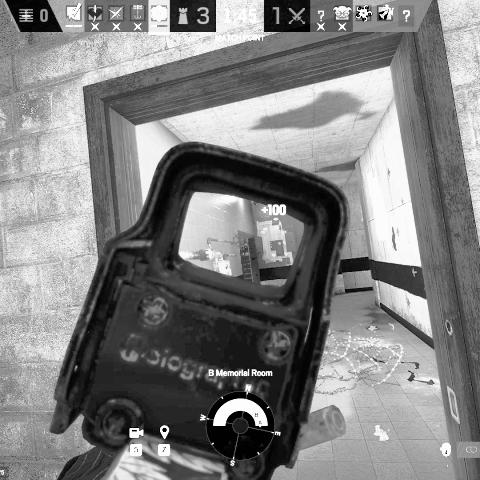Character: (242, 243, 249, 255)
